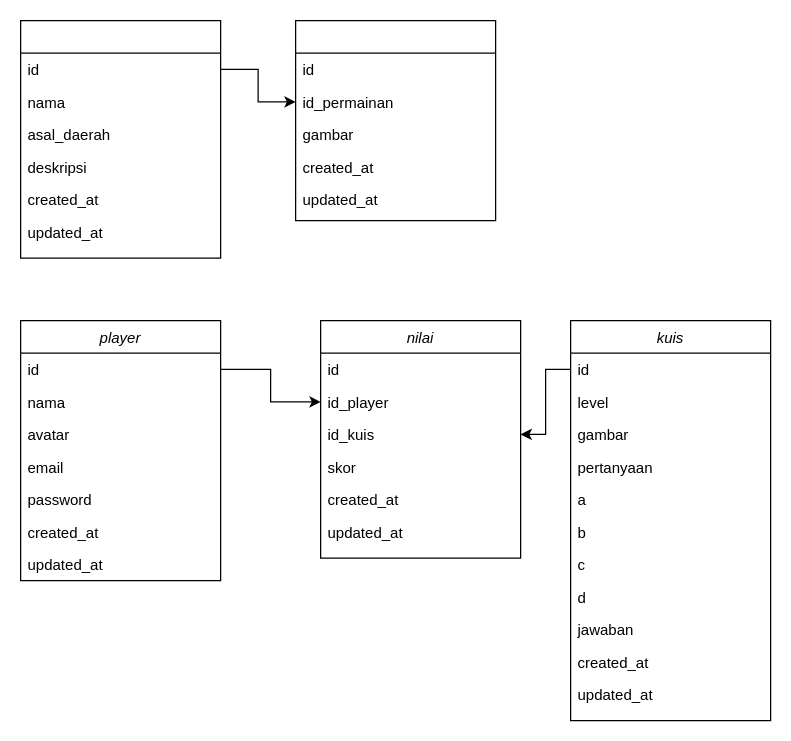
Image size: 791x741. Some labels were removed from this diagram. The box of each missing label's shape, as (x1, y1, x2, y2) in pixels:
galeri_permainan: (294, 19, 496, 221)
permainan: (19, 19, 221, 258)
